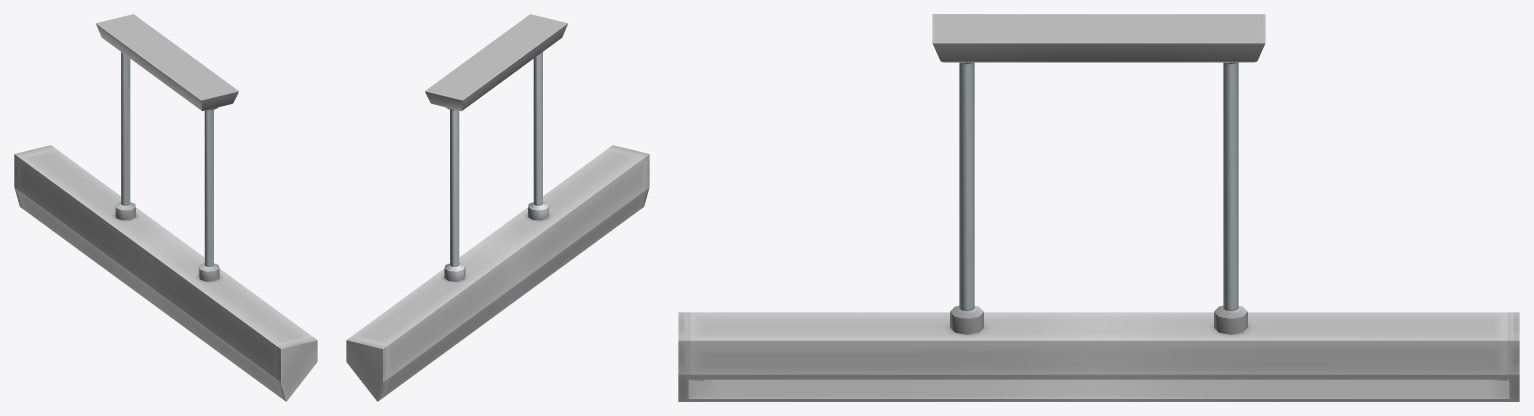
File: Light_01_02.fbx
3 views of the same model, side by side, from view 1: azimuth 30°, elevation 25°; view 2: azimuth 150°, elevation 25°; view 3: azimuth 270°, elevation 25° (orthographic). The views are drawn at different scales.
Parts seen in each view (by area): view 1: light02; view 2: light02; view 3: light02.
Boxes of the visible parts, x1,y1,x2,y2 form: light02: [14, 14, 317, 401]; light02: [346, 14, 649, 401]; light02: [678, 14, 1519, 401].
Size of the model in its own units: 10.74 by 64.3 by 128.
